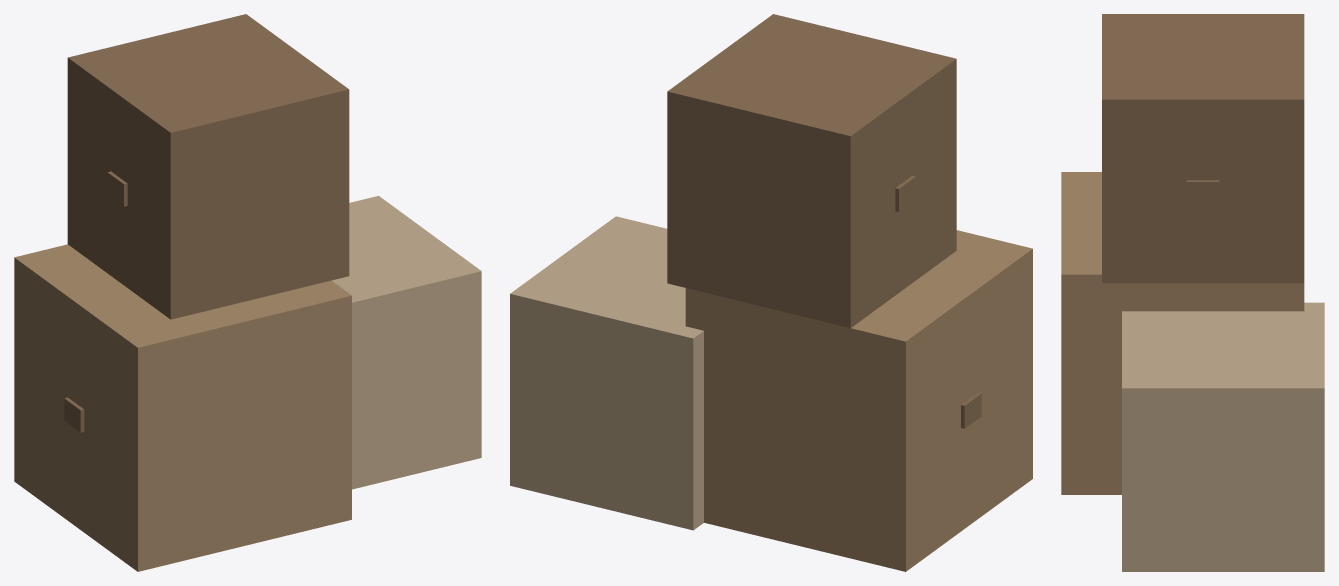
File: Kasa_Yigini.glb
The picture shows the model from 3 angles, left to right: view 1: azimuth 30°, elevation 25°; view 2: azimuth 150°, elevation 25°; view 3: azimuth 270°, elevation 25°; orthographic projection. The views are drawn at different scales.
Visible parts, largest first — view 1: Kasa_Yigini; view 2: Kasa_Yigini; view 3: Kasa_Yigini.
Part boxes in pixels (box(x1,y1,x2,y2)): Kasa_Yigini: box(14, 14, 481, 571); Kasa_Yigini: box(510, 14, 1032, 571); Kasa_Yigini: box(1061, 14, 1324, 571).
Bounding box in the file's own units: 1.06 × 1.1 × 0.65.
